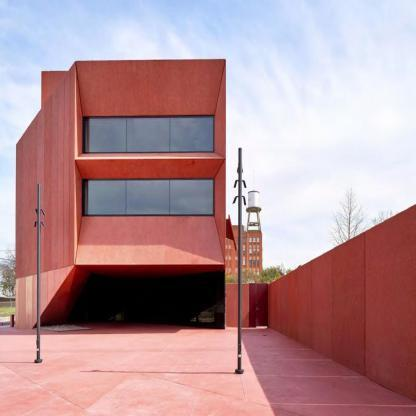Building Outline: (16, 59, 225, 330)
Dont: (232, 148, 247, 373), (34, 183, 46, 363)
Door Hole: (31, 265, 225, 330)
Facade: (76, 60, 226, 331)
Floor: (76, 166, 226, 260)
Floor Slab: (76, 260, 226, 265), (76, 162, 226, 167)
Ground Floor: (76, 265, 226, 330)
Top Floor: (76, 60, 226, 162)
Window: (83, 179, 215, 216), (83, 116, 215, 152)
